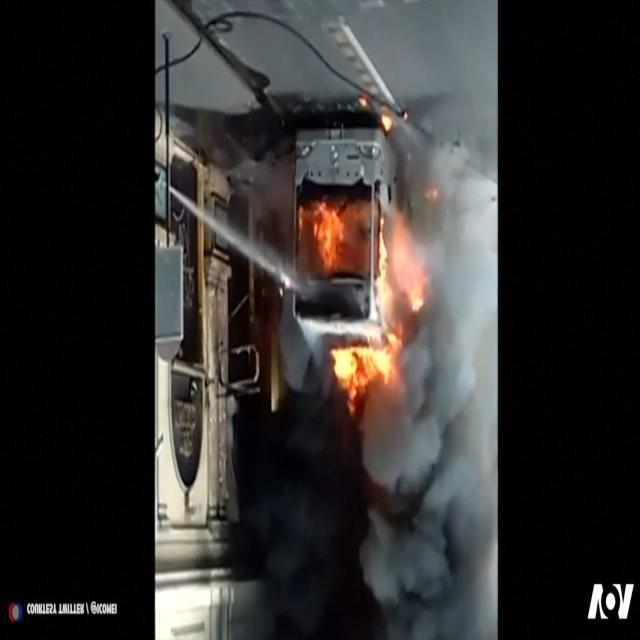fire: (298, 202, 428, 416)
